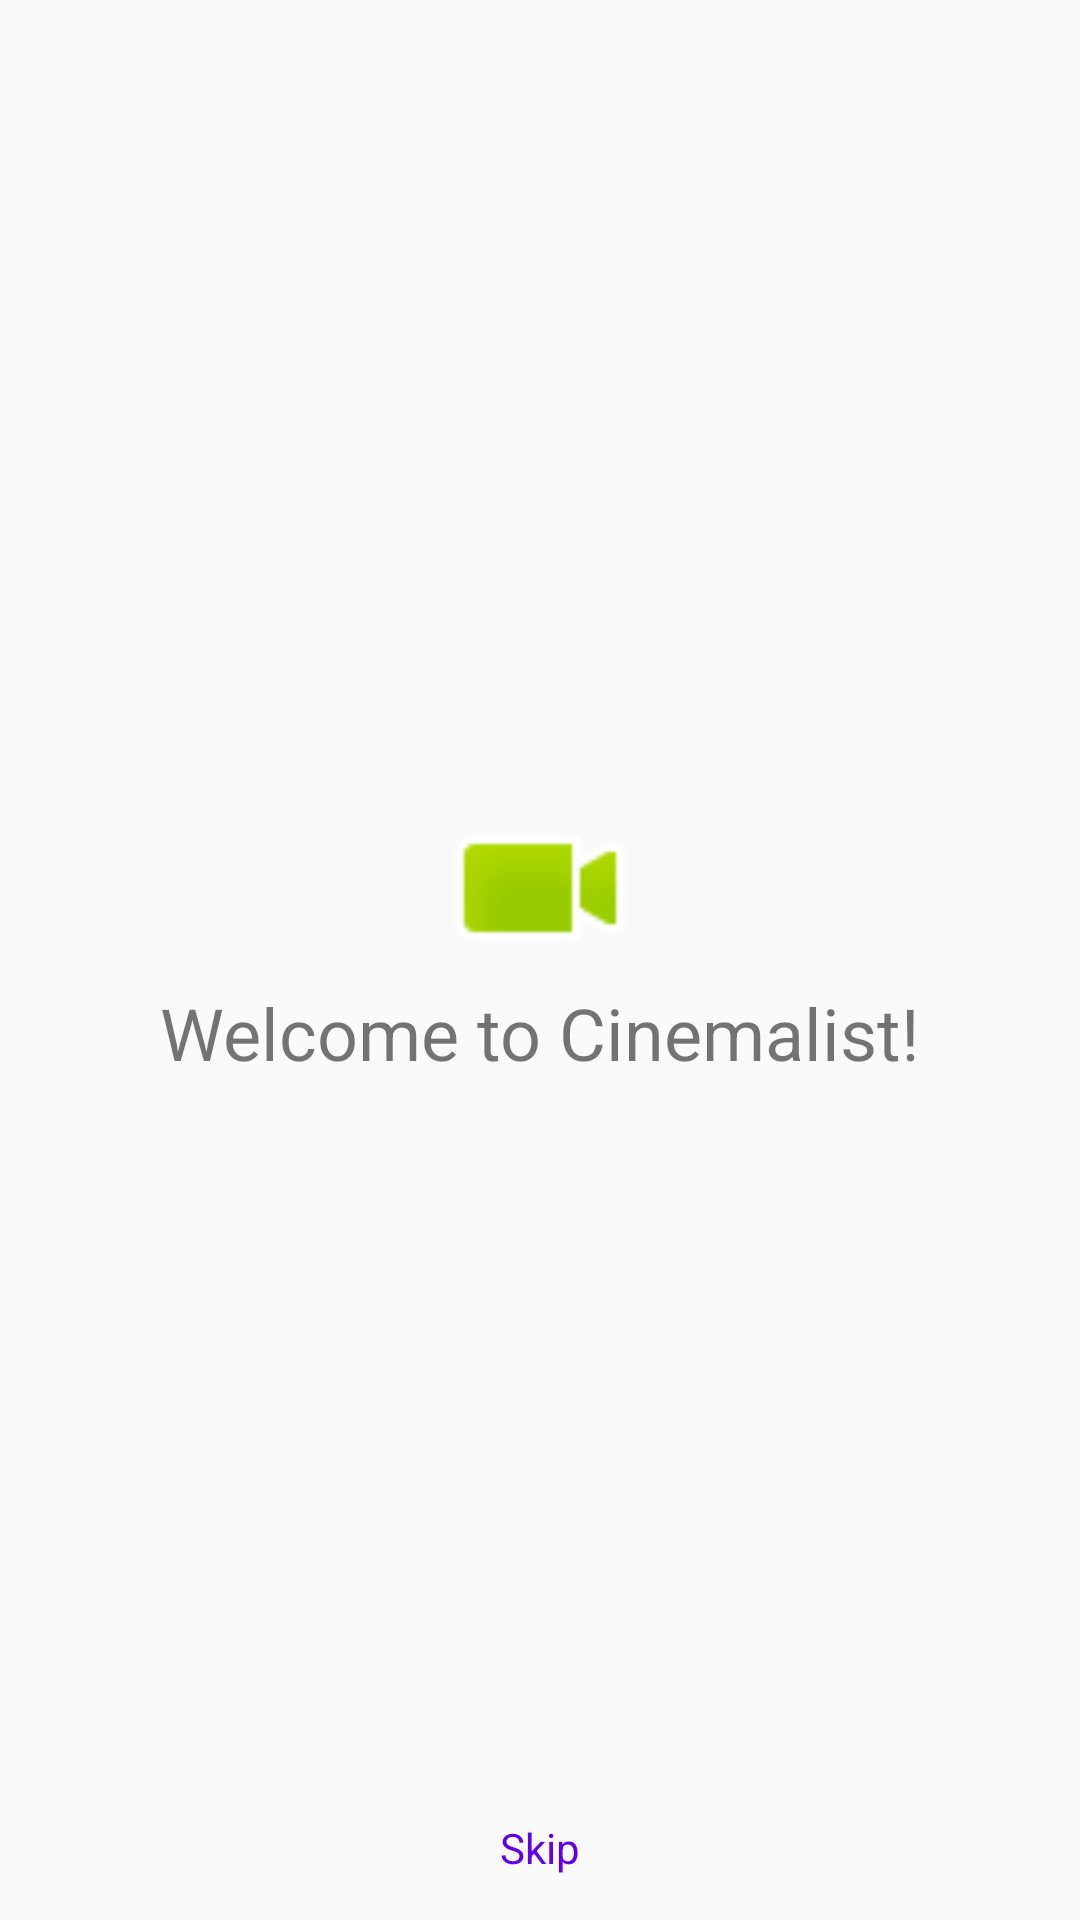

Icon bounding boxes for this 1080 × 1920 phone screenshot, format (x1, y1, x2, y2):
presence video online: (462, 842, 618, 934)
